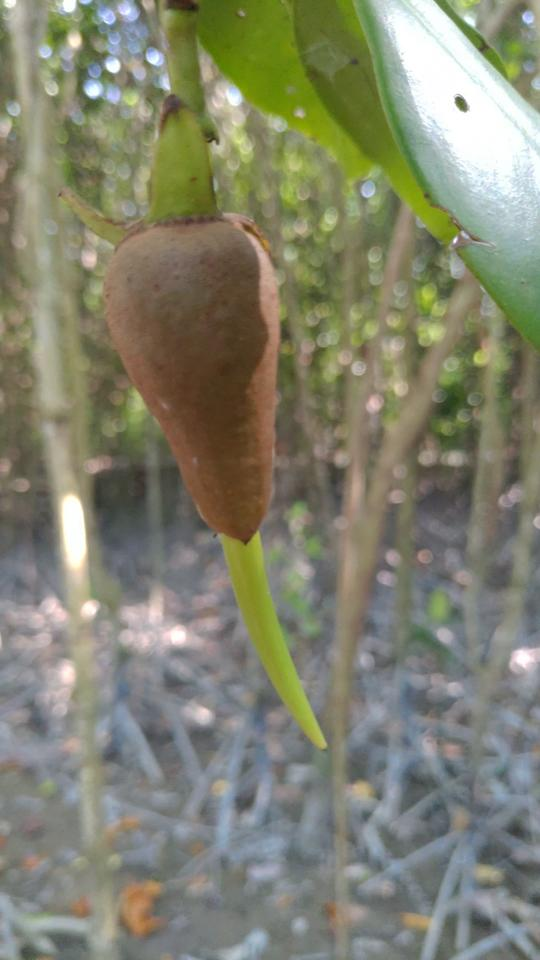mentah: (46, 89, 363, 775)
